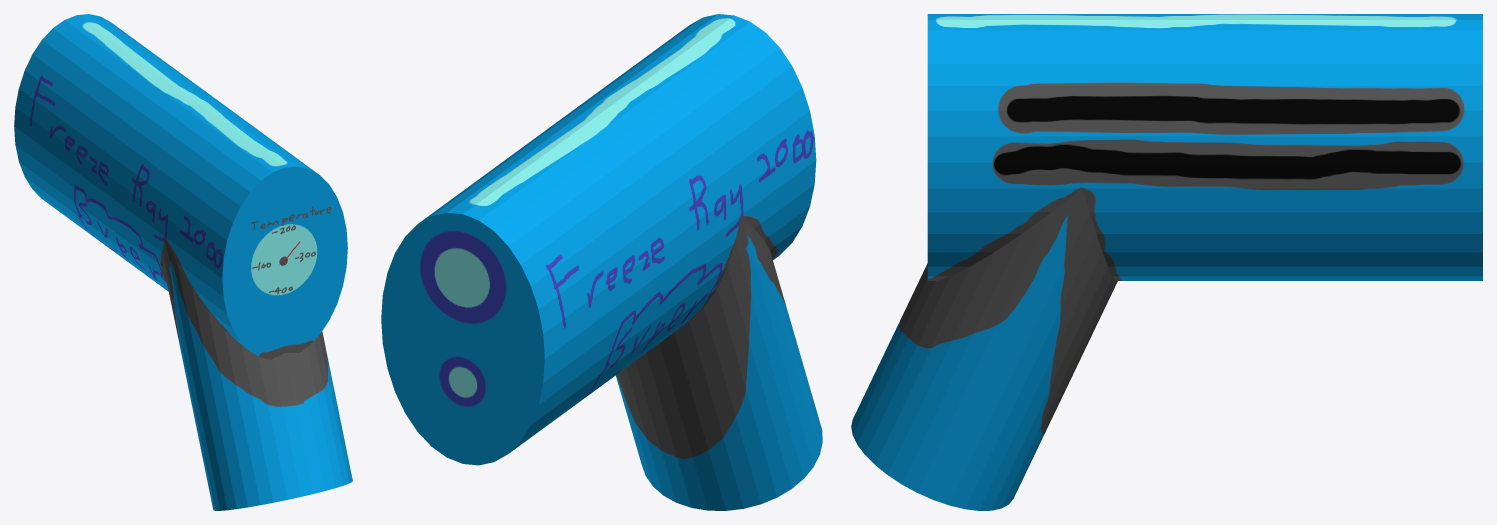
File: TexturedFreezeRay.glb
The picture shows the model from 3 angles, left to right: view 1: azimuth 30°, elevation 25°; view 2: azimuth 150°, elevation 25°; view 3: azimuth 270°, elevation 25°; orthographic projection. The views are drawn at different scales.
Visible parts, largest first — view 1: node_id5, node_id8; view 2: node_id5, node_id8; view 3: node_id5, node_id8.
Part boxes in pixels (<box>): node_id5: <box>14,14,347,359</box>; node_id8: <box>163,237,352,510</box>; node_id5: <box>381,14,816,465</box>; node_id8: <box>616,216,822,510</box>; node_id5: <box>927,14,1482,280</box>; node_id8: <box>851,187,1117,510</box>.
Size of the model in its own units: 0.1901 by 0.512 by 0.6217.
Materials: 2 (2 with a texture image).
